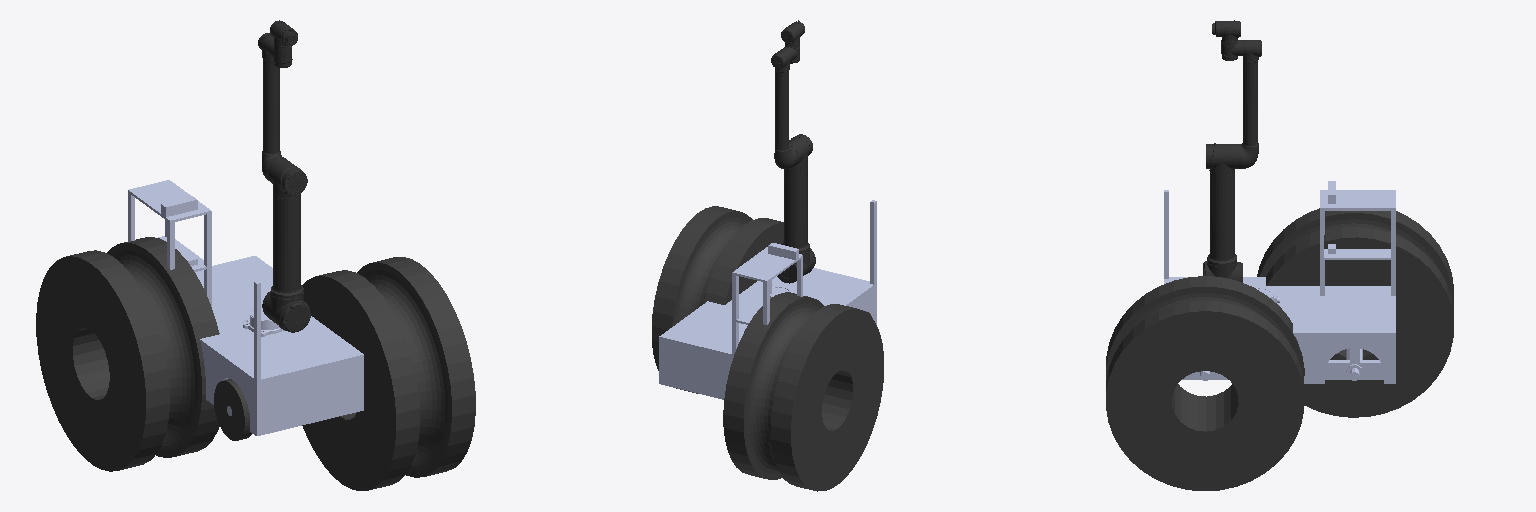
robot.urdf — robot:
<?xml version='1.0' encoding='utf-8'?>
<robot name="robot" xmlns:xacro="http://www.ros.org/wiki/xacro">
  
  <link name="base_link">
    <inertial>
      <origin xyz="-7.22287839337554E-05 -0.00215295361631975 0.324863596005363" rpy="0 0 0" />
      <mass value="165.61036422321" />
      <inertia ixx="32.965361421801" ixy="-4.58943188877295E-10" ixz="-2.30197800542194E-10" iyy="12.6332666224088" iyz="-0.000847797837113684" izz="42.003560166963" />
    </inertial>
    <visual>
      <origin xyz="0 0 0" rpy="0 0 0" />
      <geometry>
        <mesh filename="package://robot_description/meshes/base_link.STL" />
      </geometry>
      <material name="">
        <color rgba="0.792156862745098 0.819607843137255 0.933333333333333 1" />
      </material>
    </visual>
    <collision>
      <origin xyz="0 0 0" rpy="0 0 0" />
      <geometry>
        <mesh filename="package://robot_description/meshes/base_link.STL" />
      </geometry>
    </collision>
  </link>

  <joint name="j1" type="revolute">
    <origin xyz="-0.005 -0.126 0.536" rpy="0 0 1.5708" />
    <parent link="base_link" />
    <child link="link1" />
    <axis xyz="0 0 1" />
    <limit lower="-2.9670597" upper="2.9670597" effort="100" velocity="1.62" />
    <dynamics damping="1.0" friction="0.1"/>
  </joint>

  <joint name="j2" type="revolute">
    <origin xyz="-0.126 0 0.094" rpy="3.14159265358979 1.5707963267949 0" /> 
    <parent link="link1" />
    <child link="link2" />
    <axis xyz="0 0 1" />
    <limit lower="-2.9670597" upper="2.9670597" effort="100" velocity="3.10" />
    <dynamics damping="1.0" friction="0.1"/>
  </joint>

  <joint name="j3" type="revolute">
    <origin xyz="-0.803 0 0.011" rpy="3.14159265358979 0 0" />
    <parent link="link2" />
    <child link="link3" />
    <axis xyz="0 0 1" />
    <limit lower="-2.9670597" upper="2.9670597" effort="100" velocity="3.10" />
    <dynamics damping="1.0" friction="0.1"/>
  </joint>

  <joint name="j4" type="revolute">
    <origin xyz="-0.72 0 0.0298" rpy="3.1416 0 0" />
    <parent link="link3" />
    <child link="link4" />
    <axis xyz="0 0 -1" />
    <limit lower="-2.9670597" upper="2.9670597" effort="100" velocity="3.10" />
    <dynamics damping="1.0" friction="0.1"/>
  </joint>

  <joint name="j5" type="revolute">
    <origin xyz="-0.0577 0 0.0698" rpy="0 -1.5708 0" /> 
    <parent link="link4" />
    <child link="link5" />
    <axis xyz="0 0 -1" />
    <limit lower="-2.9670597" upper="2.9670597" effort="100" velocity="3.10" />
    <dynamics damping="1.0" friction="0.1"/>
  </joint>

  <joint name="j6" type="revolute">
    <origin xyz="0.0577 0 0.06955" rpy="0 1.5708 0" /> 
    <parent link="link5" />
    <child link="link6" />
    <axis xyz="0 0 1" />
    <limit lower="-2.9670597" upper="2.9670597" effort="100" velocity="1.62" />
    <dynamics damping="1.0" friction="0.1"/>
  </joint>

  <link name="wl1">
    <inertial>
      <origin xyz="0.0290880456704233 0 0" rpy="0 0 0" />
      <mass value="5.35162830148466" />
      <inertia ixx="0.0785771556064541" ixy="2.06571371557815E-35" ixz="5.7477857248605E-35" iyy="0.040993158685314" iyz="3.00703442581003E-34" izz="0.040993158685314" />
    </inertial>
    <visual>
      <origin xyz="0 0 0" rpy="0 0 0" />
      <geometry>
        <mesh filename="package://robot_description/meshes/wl1.STL" />
      </geometry>
      <material name="">
        <color rgba="0.3 0.3 0.3 1" />
      </material>
    </visual>
    <collision>
      <origin xyz="0 0 0" rpy="0 0 0" />
      <geometry>
        <mesh filename="package://robot_description/meshes/wl1.STL" />
      </geometry>
    </collision>
  </link>

  <joint name="wl1" type="continuous">
    <origin xyz="-0.425 0.45 0.169" rpy="0 0 0" />
    <parent link="base_link" />
    <child link="wl1" />
    <axis xyz="-1 0 0" />
    <dynamics damping="0.5" friction="0.1"/>
  </joint>

  <link name="wr1">
    <inertial>
      <origin xyz="-0.0290880456704234 0 0" rpy="0 0 0" />
      <mass value="5.35162830148466" />
      <inertia ixx="0.0785771556064541" ixy="-4.77943611846627E-35" ixz="5.7477857248605E-35" iyy="0.040993158685314" iyz="-3.00703442581003E-34" izz="0.040993158685314" />
    </inertial>
    <visual>
      <origin xyz="0 0 0" rpy="0 0 0" />
      <geometry>
        <mesh filename="package://robot_description/meshes/wr1.STL" />
      </geometry>
      <material name="">
        <color rgba="0.3 0.3 0.3 1" />
      </material>
    </visual>
    <collision>
      <origin xyz="0 0 0" rpy="0 0 0" />
      <geometry>
        <mesh filename="package://robot_description/meshes/wr1.STL" />
      </geometry>
    </collision>
  </link>

  <joint name="wr1" type="continuous">
    <origin xyz="0.425 0.45 0.169" rpy="0 0 0" />
    <parent link="base_link" />
    <child link="wr1" />
    <axis xyz="-1 0 0" />
    <dynamics damping="0.5" friction="0.1"/>
  </joint>

  <link name="wl2">
    <inertial>
      <origin xyz="0.0290880456704233 5.55111512312578E-17 0" rpy="0 0 0" />
      <mass value="5.35162830148466" />
      <inertia ixx="0.0785771556064541" ixy="2.06571371557815E-35" ixz="5.7477857248605E-35" iyy="0.040993158685314" iyz="3.00703442581003E-34" izz="0.040993158685314" />
    </inertial>
    <visual>
      <origin xyz="0 0 0" rpy="0 0 0" />
      <geometry>
        <mesh filename="package://robot_description/meshes/wl2.STL" />
      </geometry>
      <material name="">
        <color rgba="0.3 0.3 0.3 1" />
      </material>
    </visual>
    <collision>
      <origin xyz="0 0 0" rpy="0 0 0" />
      <geometry>
        <mesh filename="package://robot_description/meshes/wl2.STL" />
      </geometry>
    </collision>
  </link>

  <joint name="wl2" type="continuous">
    <origin xyz="-0.425 -0.45 0.169" rpy="0 0 0" />
    <parent link="base_link" />
    <child link="wl2" />
    <axis xyz="-1 0 0" />
    <dynamics damping="0.5" friction="0.1"/>
  </joint>

  <link name="wr2">
    <inertial>
      <origin xyz="-0.0290880456704234 5.55111512312578E-17 0" rpy="0 0 0" />
      <mass value="5.35162830148466" />
      <inertia ixx="0.0785771556064541" ixy="-4.77943611846627E-35" ixz="5.7477857248605E-35" iyy="0.040993158685314" iyz="-3.00703442581003E-34" izz="0.040993158685314" />
    </inertial>
    <visual>
      <origin xyz="0 0 0" rpy="0 0 0" />
      <geometry>
        <mesh filename="package://robot_description/meshes/wr2.STL" />
      </geometry>
      <material name="">
        <color rgba="0.3 0.3 0.3 1" />
      </material>
    </visual>
    <collision>
      <origin xyz="0 0 0" rpy="0 0 0" />
      <geometry>
        <mesh filename="package://robot_description/meshes/wr2.STL" />
      </geometry>
    </collision>
  </link>

  <joint name="wr2" type="continuous">
    <origin xyz="0.425 -0.45 0.169" rpy="0 0 0" />
    <parent link="base_link" />
    <child link="wr2" />
    <axis xyz="-1 0 0" />
    <dynamics damping="0.5" friction="0.1"/>
  </joint>

  <link name="link1">
    <inertial>
      <origin xyz="-0.00794920674955624 -1.78415172156048E-05 0.0962050288057547" rpy="0 0 0" />
      <mass value="6.3997963235939" />
      <inertia ixx="0.0386968105399522" ixy="3.18422119967618E-06" ixz="0.000278068450970961" iyy="0.0403824669357166" iyz="1.29129590060104E-05" izz="0.0302124483192918" />
    </inertial>
    <visual>
      <origin xyz="0 0 0" rpy="0 0 0" />
      <geometry>
        <mesh filename="package://robot_description/meshes/link1.STL" />
      </geometry>
      <material name="">
        <color rgba="0.250980392156863 0.250980392156863 0.250980392156863 1" />
      </material>
    </visual>
    <collision>
      <origin xyz="0 0 0" rpy="0 0 0" />
      <geometry>
        <mesh filename="package://robot_description/meshes/link1.STL" />
      </geometry>
    </collision>
  </link>

  <link name="link2">
    <inertial>
      <origin xyz="-0.356587738253141 -5.20041231720329E-06 0.0932252364057431" rpy="0 0 0" />
      <mass value="22.2940088807678" />
      <inertia ixx="0.0974900452024959" ixy="3.08604301056751E-06" ixz="0.000327194536900443" iyy="0.455754558388555" iyz="1.35730362482013E-05" izz="0.434619057566455" />
    </inertial>
    <visual>
      <origin xyz="0 0 0" rpy="0 0 0" />
      <geometry>
        <mesh filename="package://robot_description/meshes/link2.STL" />
      </geometry>
      <material name="">
        <color rgba="0.250980392156863 0.250980392156863 0.250980392156863 1" />
      </material>
    </visual>
    <collision>
      <origin xyz="0 0 0" rpy="0 0 0" />
      <geometry>
        <mesh filename="package://robot_description/meshes/link2.STL" />
      </geometry>
    </collision>
  </link>

  <link name="link3">
    <inertial>
      <origin xyz="-0.348727151721816 0.000170002642110669 0.0825873081787098" rpy="0 0 0" />
      <mass value="6.4895258475879" />
      <inertia ixx="0.0096756766183381" ixy="-0.00026633857380855" ixz="0.00703002672413942" iyy="0.258252972810647" iyz="1.22132940178923E-05" izz="0.257392693068882" />
    </inertial>
    <visual>
      <origin xyz="0 0 0" rpy="0 0 0" />
      <geometry>
        <mesh filename="package://robot_description/meshes/link3.STL" />
      </geometry>
      <material name="">
        <color rgba="0.250980392156863 0.250980392156863 0.250980392156863 1" />
      </material>
    </visual>
    <collision>
      <origin xyz="0 0 0" rpy="0 0 0" />
      <geometry>
        <mesh filename="package://robot_description/meshes/link3.STL" />
      </geometry>
    </collision>
  </link>

  <link name="link4">
    <inertial>
      <origin xyz="-0.00242458280433411 -5.44321046245903E-07 0.0661378515123138" rpy="0 0 0" />
      <mass value="1.17082580161785" />
      <inertia ixx="0.00159368211297859" ixy="3.14179162607069E-08" ixz="2.49063735370219E-05" iyy="0.00261811685549299" iyz="-1.56654011954233E-08" izz="0.00252852694287355" />
    </inertial>
    <visual>
      <origin xyz="0 0 0" rpy="0 0 0" />
      <geometry>
        <mesh filename="package://robot_description/meshes/link4.STL" />
      </geometry>
      <material name="">
        <color rgba="0.250980392156863 0.250980392156863 0.250980392156863 1" />
      </material>
    </visual>
    <collision>
      <origin xyz="0 0 0" rpy="0 0 0" />
      <geometry>
        <mesh filename="package://robot_description/meshes/link4.STL" />
      </geometry>
    </collision>
  </link>

  <link name="link5">
    <inertial>
      <origin xyz="0.00242458409241891 5.44635340153643E-07 0.0656378507065249" rpy="0 0 0" />
      <mass value="1.17082576064318" />
      <inertia ixx="0.00159368204736647" ixy="3.14422586641897E-08" ixz="-2.49064085094777E-05" iyy="0.00261811675462377" iyz="1.56549712758359E-08" izz="0.00252852684795983" />
    </inertial>
    <visual>
      <origin xyz="0 0 0" rpy="0 0 0" />
      <geometry>
        <mesh filename="package://robot_description/meshes/link5.STL" />
      </geometry>
      <material name="">
        <color rgba="0.250980392156863 0.250980392156863 0.250980392156863 1" />
      </material>
    </visual>
    <collision>
      <origin xyz="0 0 0" rpy="0 0 0" />
      <geometry>
        <mesh filename="package://robot_description/meshes/link5.STL" />
      </geometry>
    </collision>
  </link>

  <link name="link6">
    <inertial>
      <origin xyz="0.000135655130766299 -8.37139877037096E-09 0.0281910703710159" rpy="0 0 0" />
      <mass value="0.166085108652433" />
      <inertia ixx="9.48731067402748E-05" ixy="-5.77777351325843E-11" ixz="4.38703666212798E-07" iyy="9.13908413524008E-05" iyz="2.03433472099079E-13" izz="0.00015901210576961" />
    </inertial>
    <visual>
      <origin xyz="0 0 0" rpy="0 0 0" />
      <geometry>
        <mesh filename="package://robot_description/meshes/link6.STL" />
      </geometry>
      <material name="">
        <color rgba="0.250980392156863 0.250980392156863 0.250980392156863 1" />
      </material>
    </visual>
    <collision>
      <origin xyz="0 0 0" rpy="0 0 0" />
      <geometry>
        <mesh filename="package://robot_description/meshes/link6.STL" />
      </geometry>
    </collision>
  </link>

  <link name="f1">
    <inertial>
      <origin xyz="-0.448165889386651 -0.275148051459907 0.785192171007059" rpy="0 0 0" />
      <mass value="6.48280472708925" />
      <inertia ixx="0.259086426049895" ixy="0.00403011710090608" ixz="-0.0153284657643075" iyy="0.382736373204116" iyz="0.00302824380532944" izz="0.223941382712416" />
    </inertial>
    <visual>
      <origin xyz="0 0 0" rpy="0 0 0" />
      <geometry>
        <mesh filename="package://robot_description/meshes/f1.STL" />
      </geometry>
      <material name="">
        <color rgba="0.792156862745098 0.819607843137255 0.933333333333333 1" />
      </material>
    </visual>
    <collision>
      <origin xyz="-0.45 -0.275148051459907 0.7" rpy="0 0 0" />
      <geometry> 
        <box size="0.44 0.26 0.6" />
      </geometry>
    </collision>
  </link>

  <joint name="f1" type="fixed">
    <origin xyz="0.00057481 6.9036E-05 0.041028" rpy="0 0 -1.5708" />
    <parent link="base_link" />
    <child link="f1" />
    <axis xyz="0 0 0" />
  </joint>

  <joint name="joint_grasp" type="fixed">
    <parent link="link6" />
    <child link="grasp_base_link" />
    <origin rpy="-1.5708 0 -1.5708" xyz="0 0 0.04877" />
  </joint>

  <link name="grasp_base_link">
  </link>

  <joint name="joint_tool0" type="fixed">
    <parent link="grasp_base_link" />
    <child link="tool0" />
    <origin rpy="0 0 0" xyz="0 -0.02 0" />
  </joint>

  <link name="tool0">
  </link>

  <link name="f2">
    <inertial>
      <origin xyz="-1.11022302462516E-16 0 0.29" rpy="0 0 0" />
      <mass value="0.522000000000001" />
      <inertia ixx="0.01467255" ixy="1.19602678455566E-20" ixz="-5.64688631502858E-21" iyy="0.01467255" iyz="7.05702857262126E-20" izz="7.83000000000002E-05" />
    </inertial>
    <visual>
      <origin xyz="0 0 0" rpy="0 0 0" />
      <geometry>
        <mesh filename="package://robot_description/meshes/f2.STL" />
      </geometry>
      <material name="">
        <color rgba="0.792156862745098 0.819607843137255 0.933333333333333 1" />
      </material>
    </visual>
    <collision>
      <origin xyz="0 0 0" rpy="0 0 0" />
      <geometry>
        <mesh filename="package://robot_description/meshes/f2.STL" />
      </geometry>
    </collision>
  </link>

  <joint name="f2" type="fixed">
    <origin xyz="-0.385 -0.685 0.445" rpy="0 0 -1.5708" />
    <parent link="base_link" />
    <child link="f2" />
    <axis xyz="0 0 0" />
  </joint>

  <gazebo reference="base_link">
    <material>Gazebo/Grey</material>
  </gazebo>

  <gazebo reference="link1">
    <material>Gazebo/Black</material>
  </gazebo>

  <gazebo reference="link2">
    <material>Gazebo/Black</material>
  </gazebo>

  <gazebo reference="link3">
    <material>Gazebo/Black</material>
  </gazebo>

  <gazebo reference="link4">
    <material>Gazebo/Black</material>
  </gazebo>

  <gazebo reference="link5">
    <material>Gazebo/Black</material>
  </gazebo>

  <gazebo reference="link6">
    <material>Gazebo/Black</material>
  </gazebo>

  <gazebo reference="wl1">
    <material>Gazebo/DarkGrey</material>
  </gazebo>

  <gazebo reference="wl2">
    <material>Gazebo/DarkGrey</material>
  </gazebo>

  <gazebo reference="wr1">
    <material>Gazebo/DarkGrey</material>
  </gazebo>

  <gazebo reference="wr2">
    <material>Gazebo/DarkGrey</material>
  </gazebo>

  <gazebo>
    <plugin name="gazebo_ros_control" filename="libgazebo_ros_control.so">
      <robotNamespace>/</robotNamespace>
      <controlPeriod>0.01</controlPeriod>
      <updateRate>100.0</updateRate>
    </plugin>
  </gazebo>

</robot>

--- Render facts (derived) ---
3 views of the same robot in one strip: view 1: azimuth 30°, elevation 25°; view 2: azimuth 150°, elevation 25°; view 3: azimuth 270°, elevation 25° (orthographic).
Robot: robot — 15 links, 14 joints (6 revolute, 4 continuous, 4 fixed); root link base_link; default pose: every joint at zero.
Visible links, largest first — view 1: wl1, wr2, base_link, link2, f1, link3, wl2, f2; view 2: wl1, wr2, base_link, link2, f1, link3, f2; view 3: wr2, wl1, base_link, link2, f1, link3.
Boxes of the visible links, <box> form: wl1: <box>36,237,219,471</box>; wr2: <box>302,257,475,490</box>; base_link: <box>195,256,363,435</box>; link2: <box>262,157,310,332</box>; f1: <box>128,180,211,306</box>; link3: <box>258,33,283,180</box>; wl2: <box>214,379,251,440</box>; f2: <box>254,281,260,380</box>; wl1: <box>723,292,883,491</box>; wr2: <box>652,206,783,393</box>; base_link: <box>659,268,876,399</box>; link2: <box>777,134,815,283</box>; f1: <box>732,243,802,354</box>; link3: <box>771,47,797,168</box>; f2: <box>870,200,876,284</box>; wr2: <box>1106,276,1304,490</box>; wl1: <box>1257,208,1453,417</box>; base_link: <box>1164,277,1395,383</box>; link2: <box>1203,143,1242,282</box>; f1: <box>1320,181,1395,295</box>; link3: <box>1239,40,1261,168</box>.
Bounding box of the posed robot: 1.55 × 2.1 × 2.76 m (x, y, z).
11 mesh visuals loaded from 13 distinct referenced files (11 binary STL); not drawn: 2 (reference not matched to a file when rendering).
